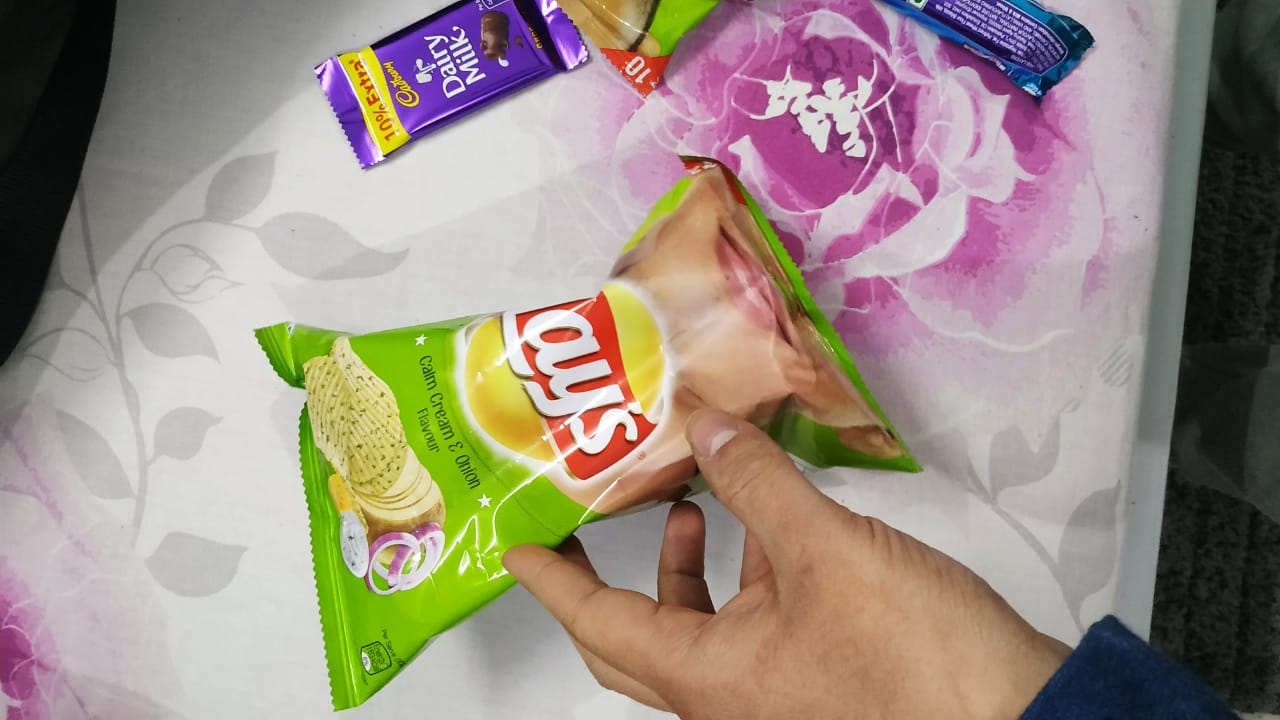lays chips: (243, 147, 938, 622), (303, 1, 598, 186)
